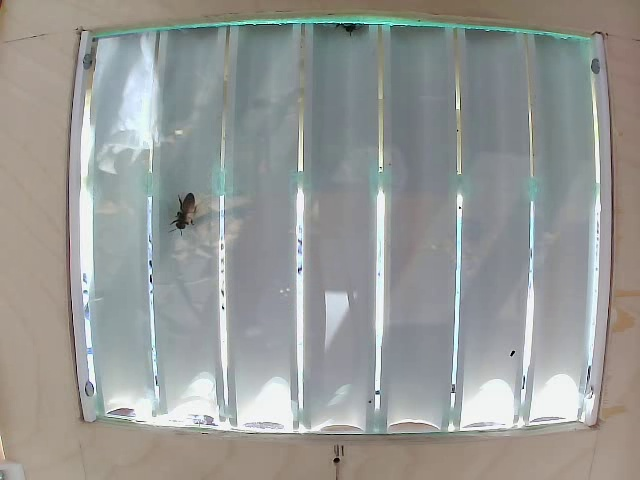bee: (177, 189, 204, 240)
